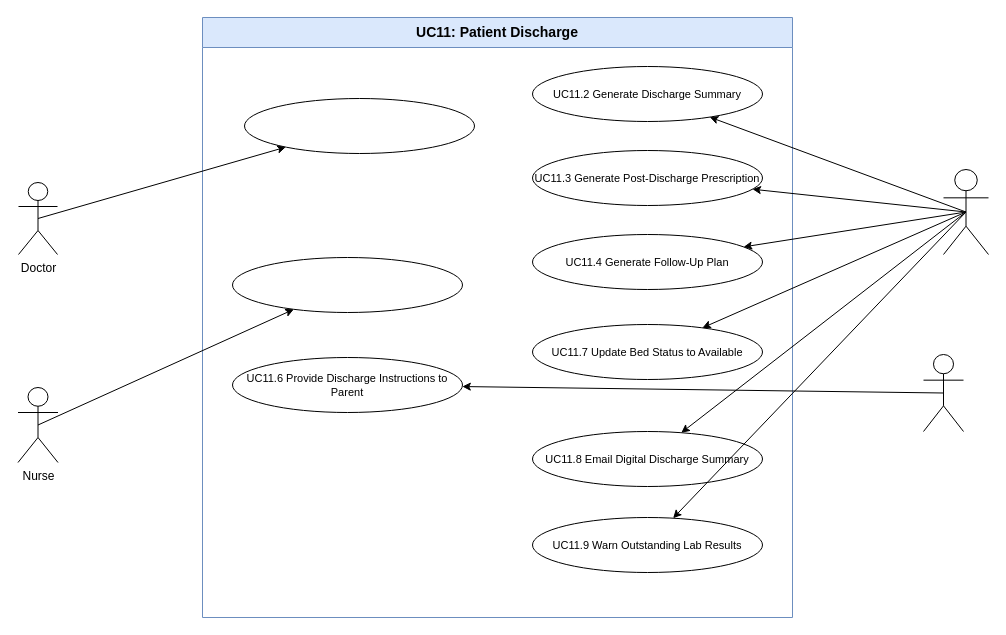
Some shapes in this 1006 by 635 pixel diagram are drawn without their labels. The box of each missing label's shape, as (x1, y1, x2, y2) in pixels:
Receptionist: (922, 354, 964, 432)
System: (942, 168, 988, 254)
UC11.1 Approve Discharge: (244, 98, 474, 154)
UC11.5 Ensure Patient Bed Vacated: (232, 256, 462, 312)
